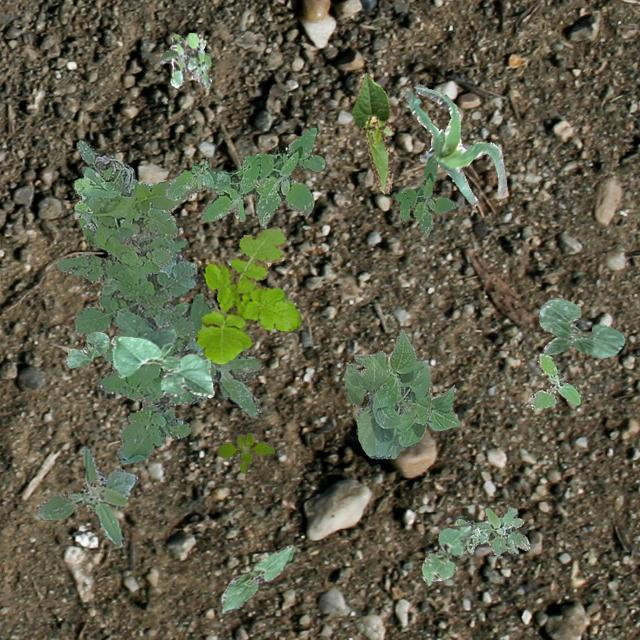crop: (342, 328, 458, 458), (404, 82, 506, 206), (110, 322, 212, 397), (538, 296, 624, 356), (352, 72, 394, 192), (220, 544, 294, 612), (421, 522, 472, 584), (64, 331, 108, 366)
weed: (54, 220, 208, 462), (163, 124, 324, 226), (194, 226, 300, 362), (74, 166, 188, 278), (170, 292, 260, 418), (36, 448, 136, 546), (394, 156, 456, 237), (454, 506, 528, 556), (76, 138, 136, 194), (526, 352, 580, 408), (157, 32, 210, 88), (216, 432, 274, 472)
